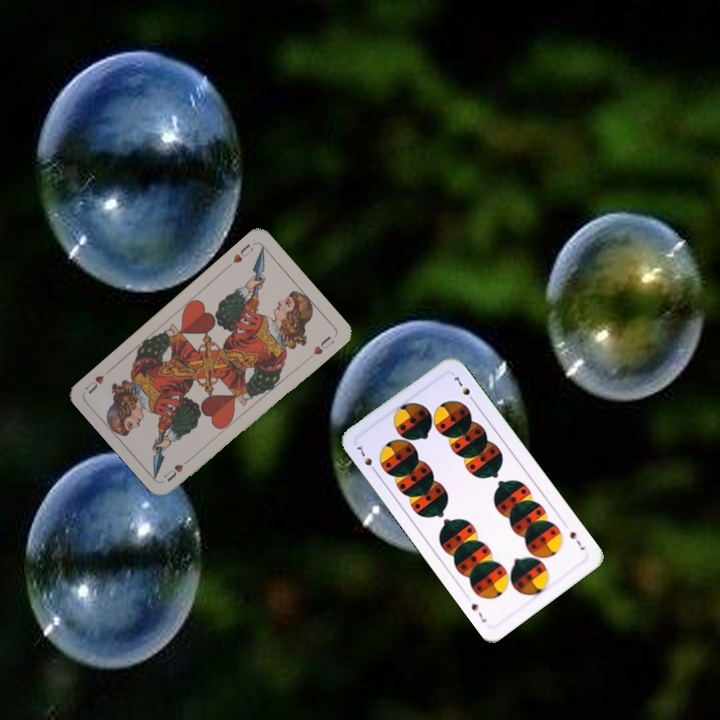HU: (160, 454, 194, 484), (229, 240, 256, 266)
S7: (352, 440, 380, 476), (566, 527, 588, 553)
